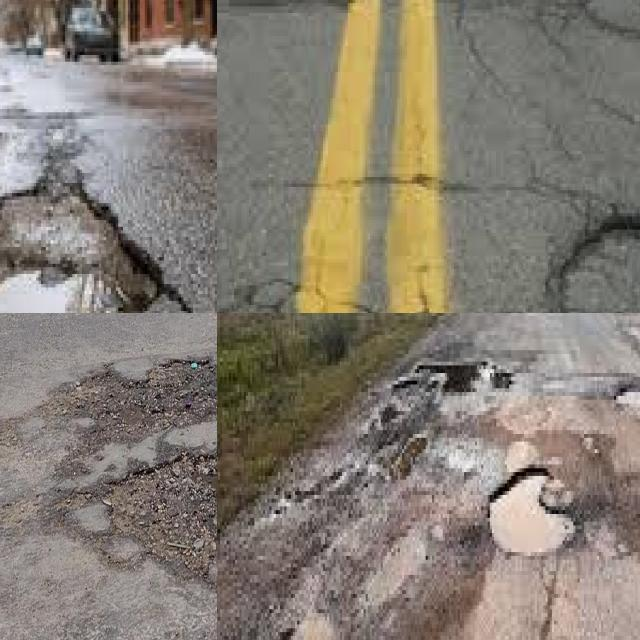Pothole: (0, 163, 145, 313), (107, 447, 217, 586), (68, 354, 217, 446), (488, 468, 575, 556), (570, 239, 640, 313), (374, 430, 430, 484), (417, 365, 486, 400), (595, 377, 640, 411)
